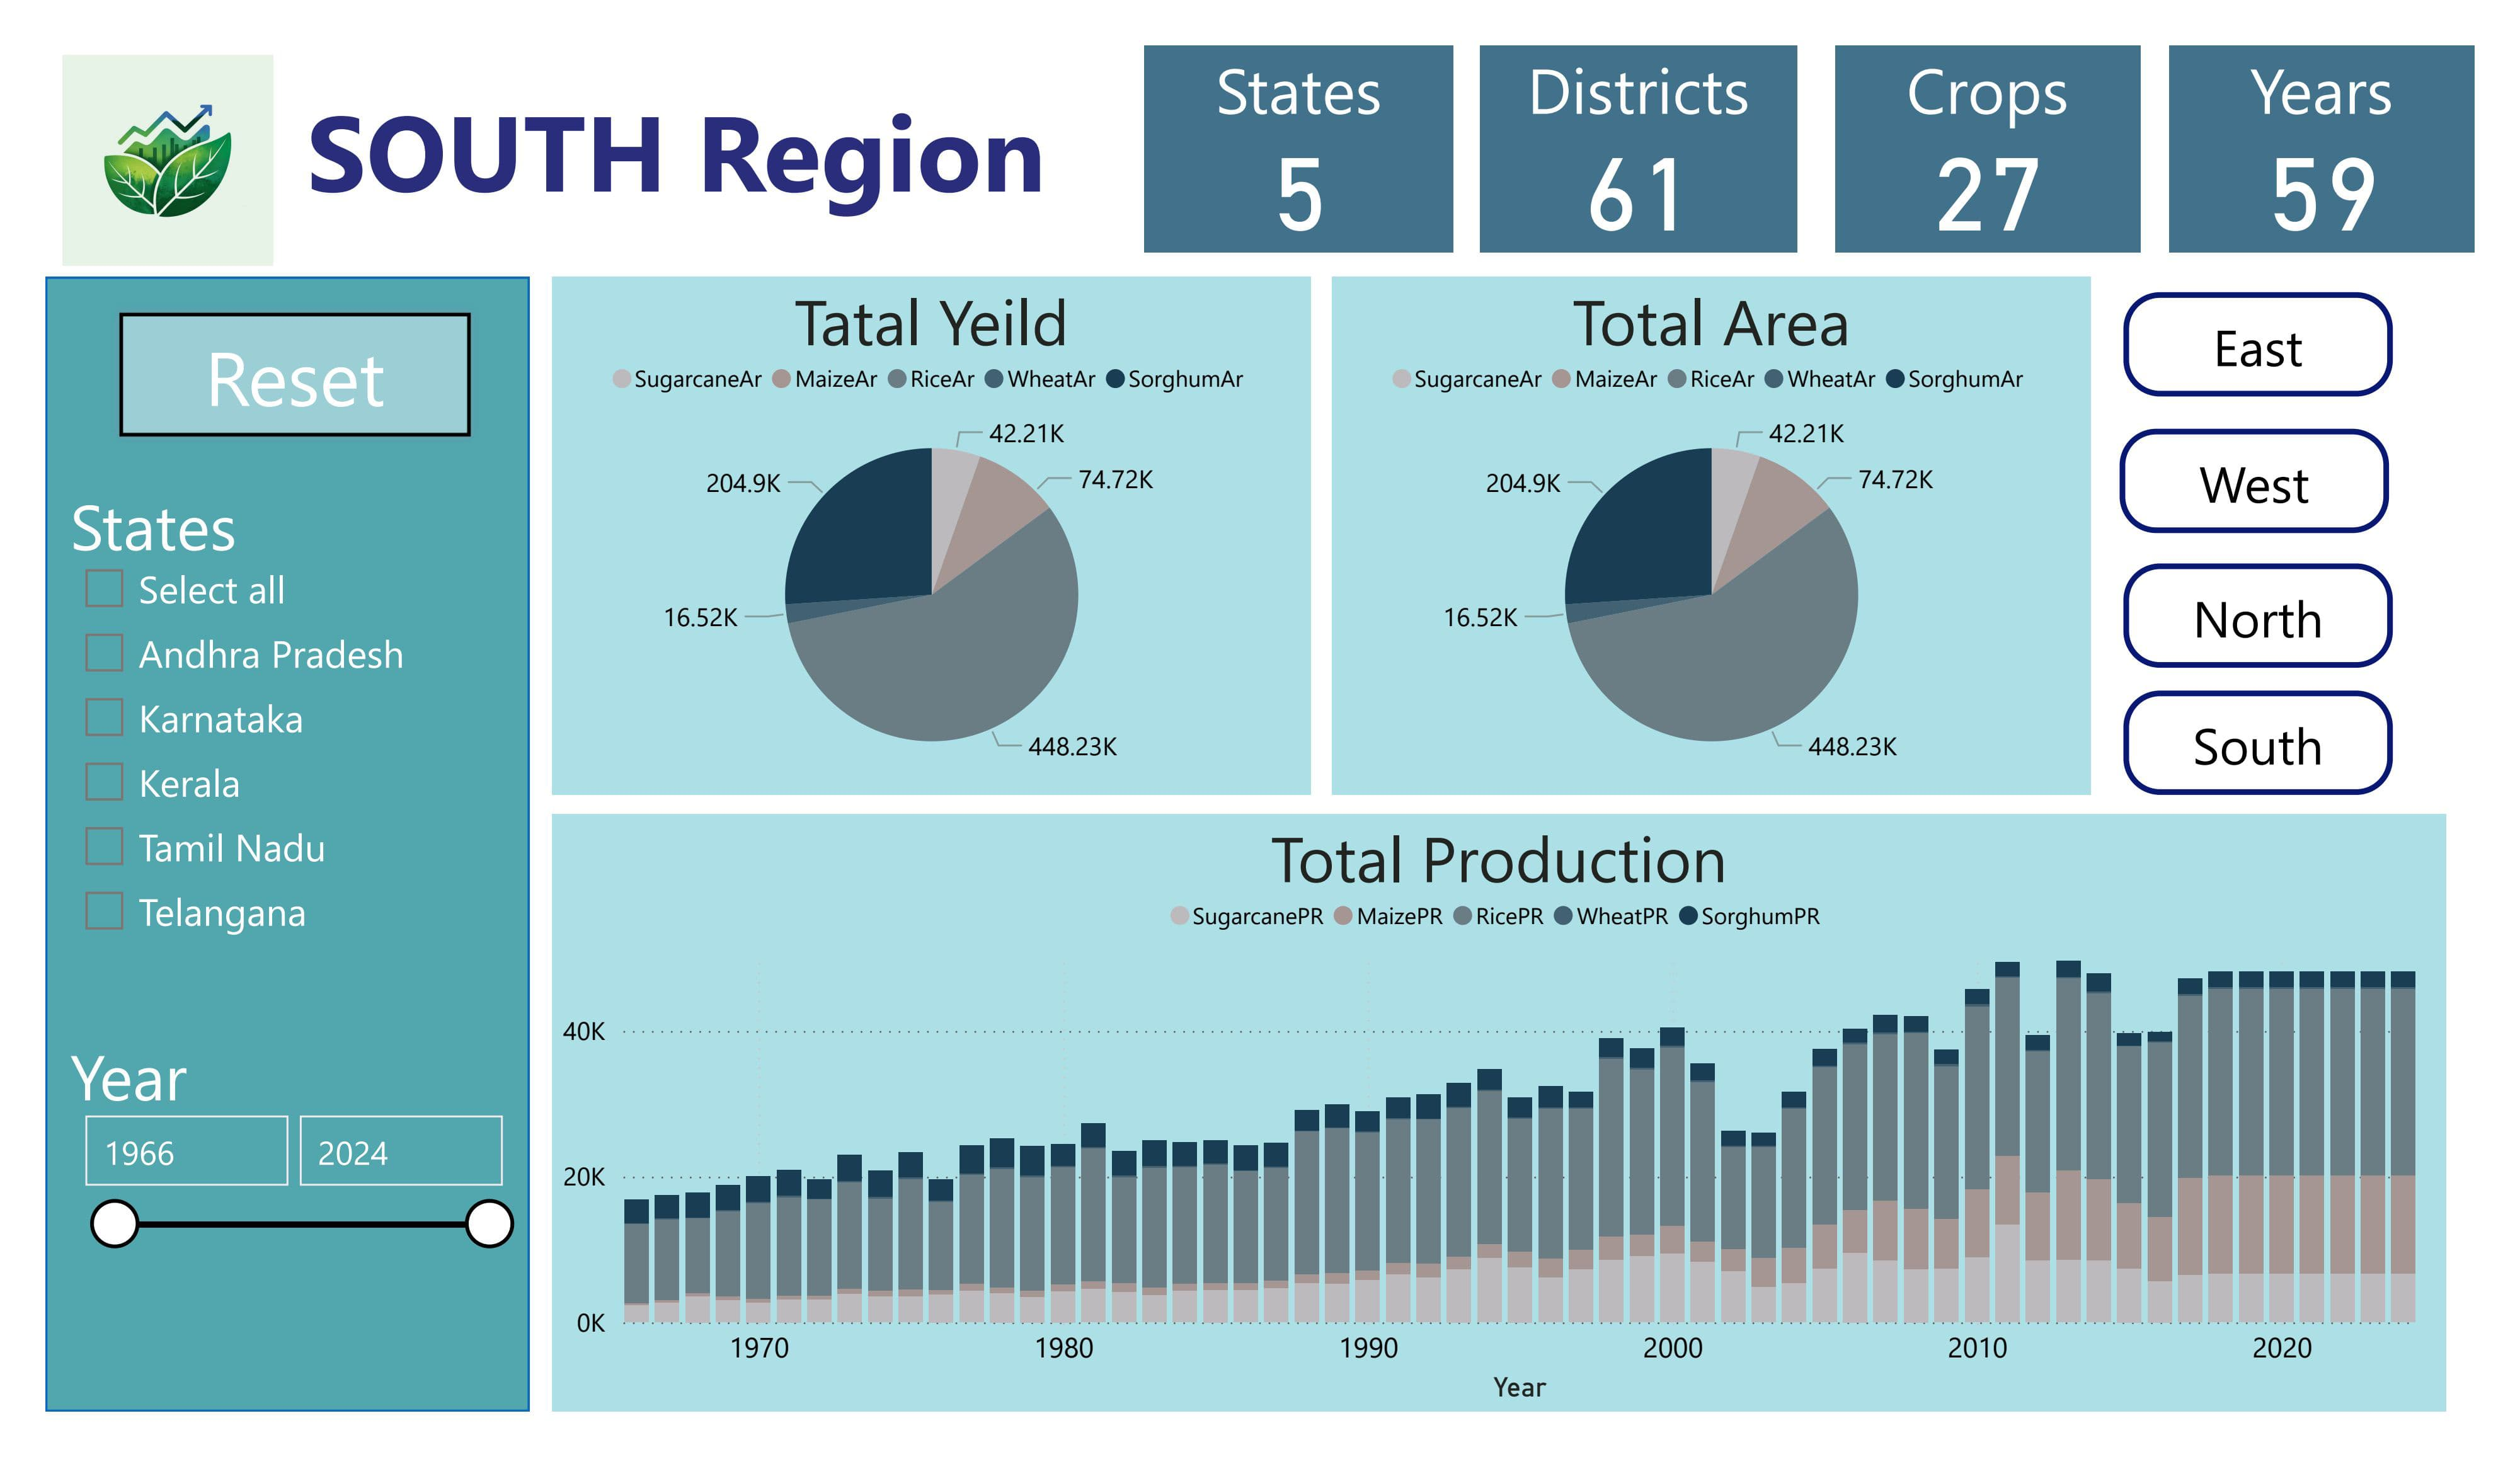

The page's visual inventory and layout, read from the dashboard file:
{"tool":"powerbi","page":{"name":"SOUTH","canvas":[1280,720],"ordinal":5},"visuals":[{"type":"shape","box":[0,121.7,255,598.3],"z":0},{"type":"textbox","box":[8.6,11.5,596.2,87.8],"z":1000},{"type":"card","title":"States","fields":{"Values":["Count(SOUTH.State Name)"]},"box":[578.9,0,162.7,109.4],"z":2000},{"type":"card","title":"Districts","fields":{"Values":["Count(SOUTH.Dist Name)"]},"box":[756,0,167,109.4],"z":3000},{"type":"card","title":"Crops","fields":{"Values":["Avg(SOUTH.Crops)"]},"box":[943.2,0,161.3,109.4],"z":4000},{"type":"card","title":"Years","fields":{"Values":["Count(SOUTH.Year)"]},"box":[1118.9,0,161.3,109.4],"z":5000},{"type":"slicer","title":"States","fields":{"Values":["SOUTH.State Name"]},"box":[8.3,230,246.7,260],"z":6000},{"type":"slicer","title":"Year","fields":{"Values":["SOUTH.Year"]},"box":[8.3,520,246.7,143.3],"z":7000},{"type":"actionButton","box":[34.6,136.8,193,73.4],"z":8000},{"type":"pieChart","title":"Total Area","fields":{"Y":["SOUTH.SugarcaneAr","SOUTH.MaizeAr","SOUTH.RiceAr","SOUTH.WheatAr","SOUTH.SorghumAr"]},"box":[678.3,121.7,400,273.3],"z":9000},{"type":"pieChart","title":"Tatal Yeild","fields":{"Y":["SOUTH.SugarcaneAr","SOUTH.MaizeAr","SOUTH.RiceAr","SOUTH.WheatAr","SOUTH.SorghumAr"]},"box":[266.7,121.7,400,273.3],"z":10000},{"type":"lineStackedColumnComboChart","title":"Total Production","fields":{"Category":["SOUTH.Year"],"Y":["SOUTH.SugarcanePR","SOUTH.MaizePR","SOUTH.RicePR","SOUTH.WheatPR","SOUTH.SorghumPR"]},"box":[266.7,405,998.3,315],"z":11000},{"type":"actionButton","title":"West","box":[1093.3,201.7,141.7,55],"z":12000},{"type":"actionButton","box":[1095,273.3,141.7,55],"z":13000},{"type":"actionButton","box":[1095,340,141.7,55],"z":14000},{"type":"actionButton","box":[1095,130,141.7,55],"z":15000},{"type":"image","box":[0,0,128.2,121],"z":15001}]}

Visuals, with their boxes in screenshot pixels (x1, y1, x2, y2), scaled from the page's 1280x720 canvas onto the 2520x1457 screenshot:
shape: [left=0, top=246, right=502, bottom=1456]
textbox: [left=17, top=23, right=1191, bottom=201]
"States" card: [left=1140, top=0, right=1460, bottom=221]
"Districts" card: [left=1488, top=0, right=1817, bottom=221]
"Crops" card: [left=1857, top=0, right=2175, bottom=221]
"Years" card: [left=2203, top=0, right=2519, bottom=221]
"States" slicer: [left=16, top=466, right=502, bottom=991]
"Year" slicer: [left=16, top=1052, right=502, bottom=1342]
actionButton: [left=68, top=277, right=448, bottom=425]
"Total Area" pieChart: [left=1336, top=246, right=2123, bottom=799]
"Tatal Yeild" pieChart: [left=525, top=246, right=1312, bottom=799]
"Total Production" lineStackedColumnComboChart: [left=525, top=820, right=2490, bottom=1456]
"West" actionButton: [left=2153, top=408, right=2431, bottom=520]
actionButton: [left=2156, top=553, right=2435, bottom=665]
actionButton: [left=2156, top=688, right=2435, bottom=799]
actionButton: [left=2156, top=263, right=2435, bottom=374]
image: [left=0, top=0, right=253, bottom=245]
